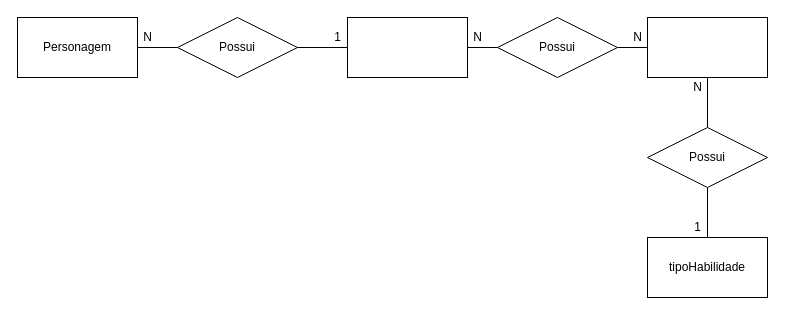
Some shapes in this 785 by 315 pixel diagram are drawn without their labels. Each missing label, with the box of its shape:
Classe: (346, 16, 468, 78)
Habilidade: (646, 16, 768, 78)
